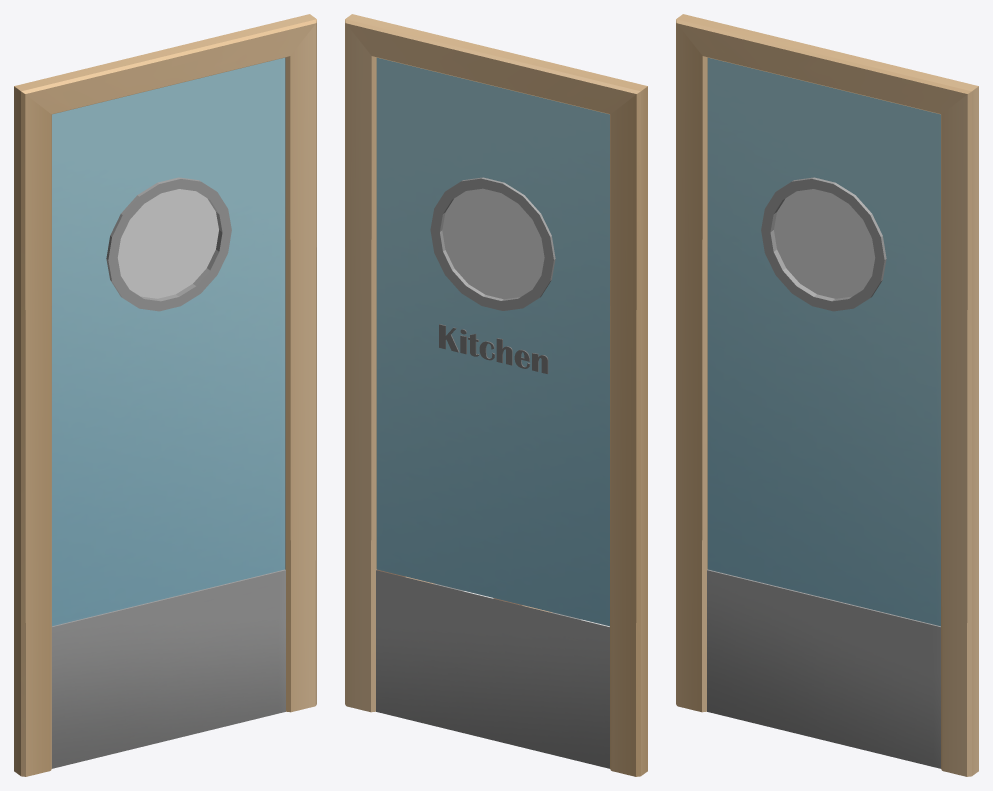
The model's file is Door_Kitchen.FBX.
The picture shows the model from 3 angles, left to right: view 1: azimuth 30°, elevation 25°; view 2: azimuth 150°, elevation 25°; view 3: azimuth 330°, elevation 25°; orthographic projection.
Parts seen in each view (by area): view 1: Door_ToKitchen, Door_ToKitchenFrame; view 2: Door_ToKitchen, Door_ToKitchenFrame; view 3: Door_ToKitchen, Door_ToKitchenFrame.
Boxes of the visible parts, x1,y1,x2,y2 form: Door_ToKitchen: (52,57,285,768); Door_ToKitchenFrame: (14,14,316,776); Door_ToKitchen: (376,57,609,768); Door_ToKitchenFrame: (345,14,647,776); Door_ToKitchen: (707,57,940,768); Door_ToKitchenFrame: (676,14,978,776).
Size of the model in its own units: 37.8 by 83.63 by 2.36.
